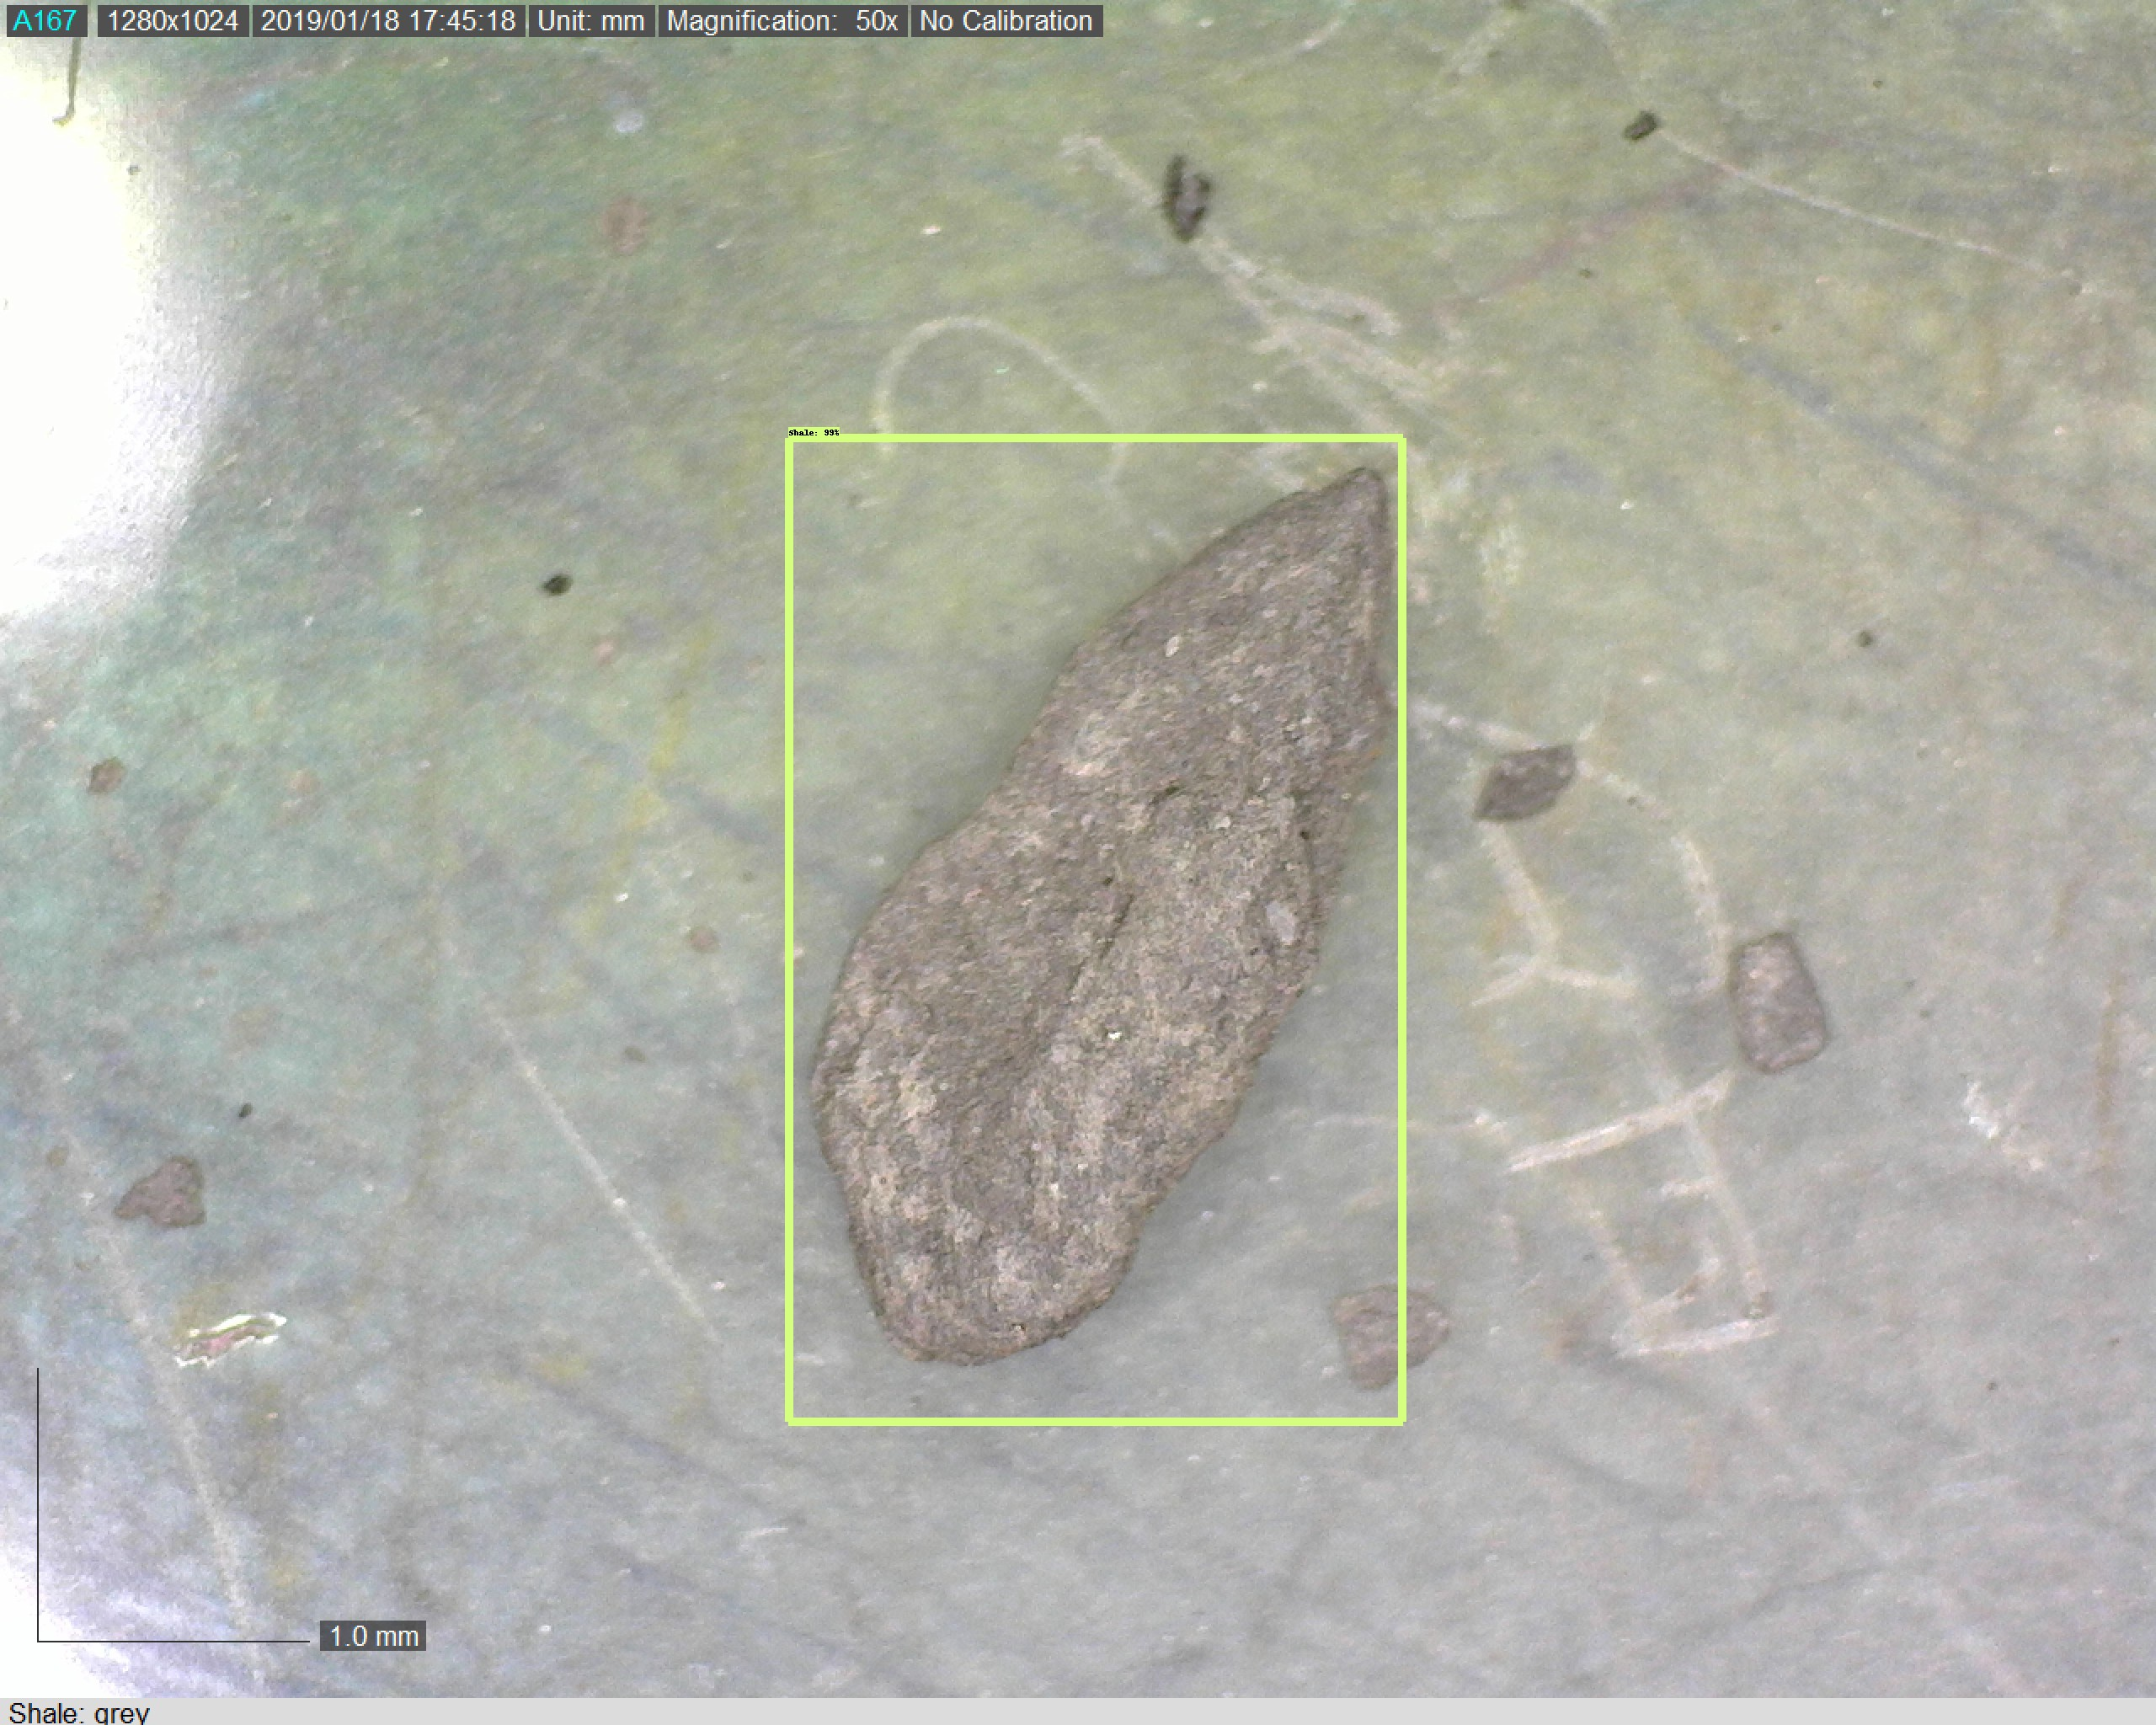Shale: (796, 459, 1396, 1376)
